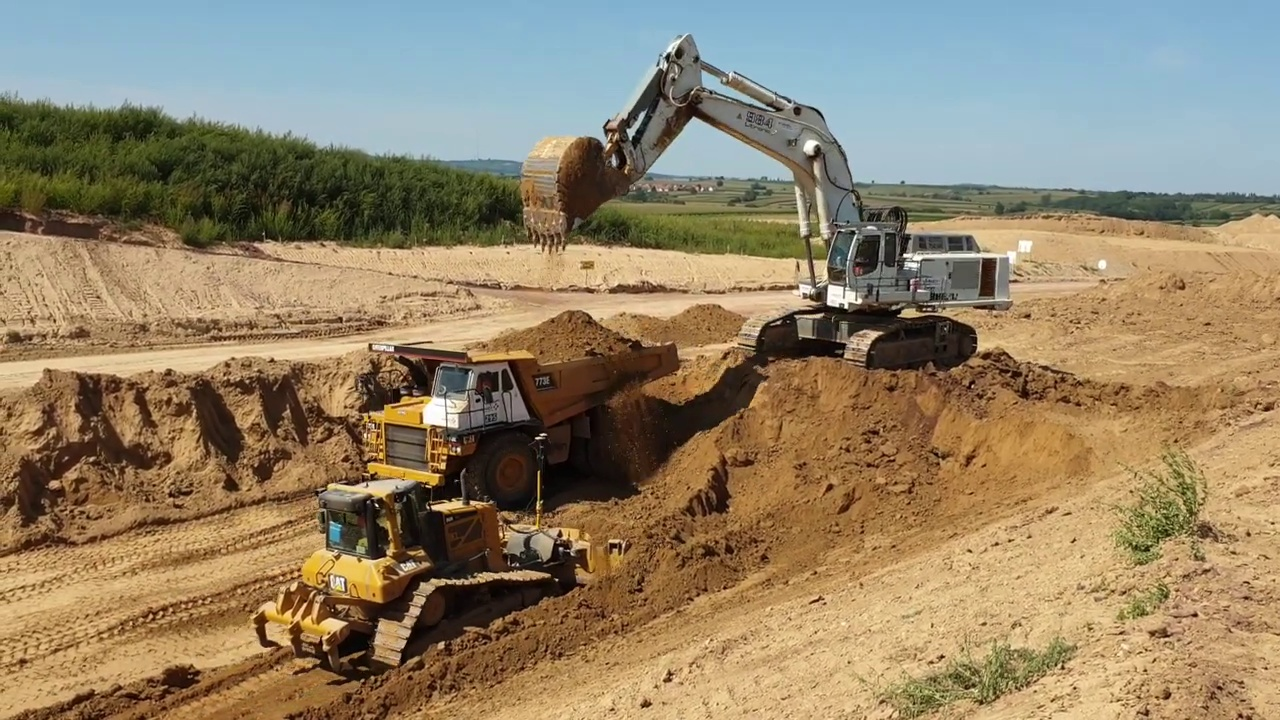bulldozer: (252, 428, 633, 679)
excavator: (515, 30, 1018, 378)
truck: (357, 333, 683, 512)
